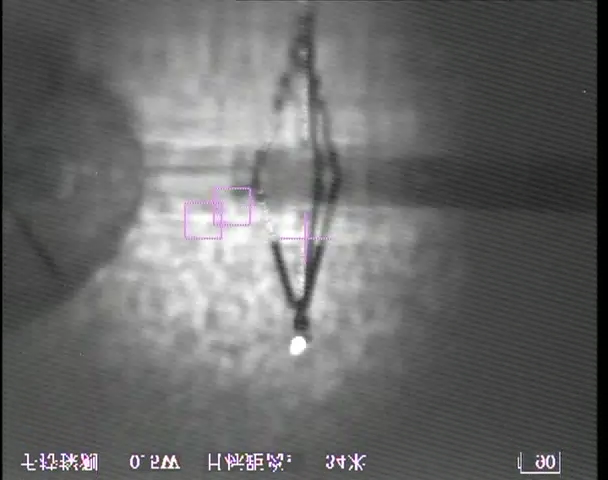my: (287, 334, 308, 356)
